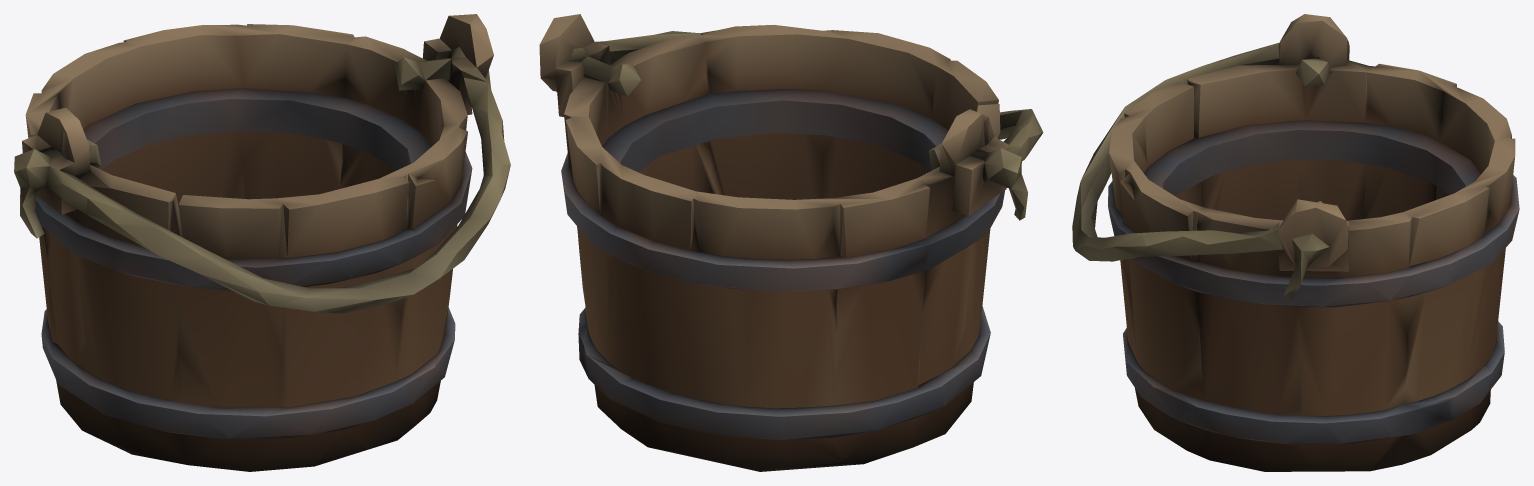
File: bucket.glb
3 views of the same model, side by side, from view 1: azimuth 30°, elevation 25°; view 2: azimuth 150°, elevation 25°; view 3: azimuth 270°, elevation 25° (orthographic). The views are drawn at different scales.
Visible parts, largest first — view 1: bucket_LOD0; view 2: bucket_LOD0; view 3: bucket_LOD0.
Part boxes in pixels (x1,y1,x2,y2): bucket_LOD0: (14, 14, 510, 471); bucket_LOD0: (539, 14, 1043, 471); bucket_LOD0: (1072, 14, 1519, 471).
Size of what is drawn, in the model's own units: 0.4569 by 0.3002 by 0.4047.
